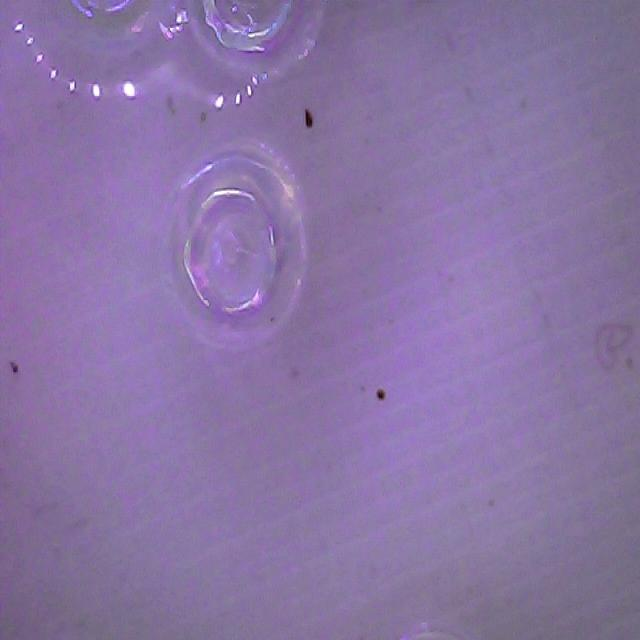beads: (157, 139, 322, 357)
